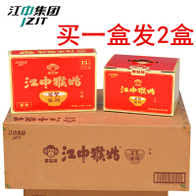box: (8, 49, 97, 111), (105, 54, 180, 116)
